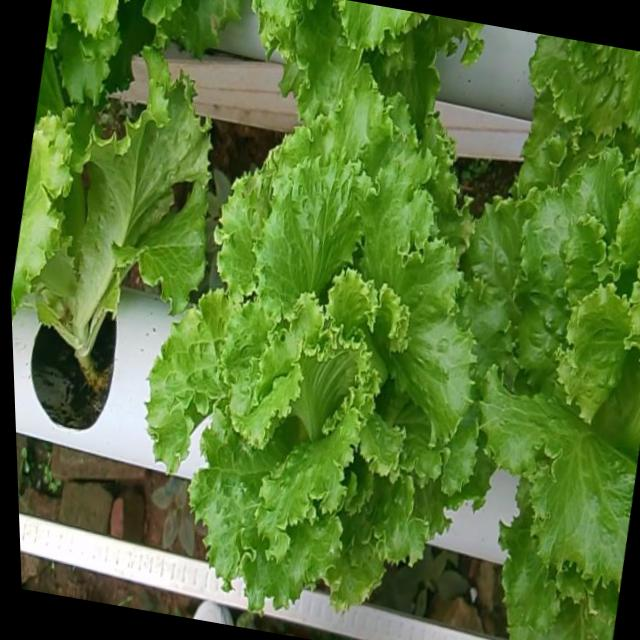Mature: (139, 83, 471, 608), (459, 147, 640, 595)
